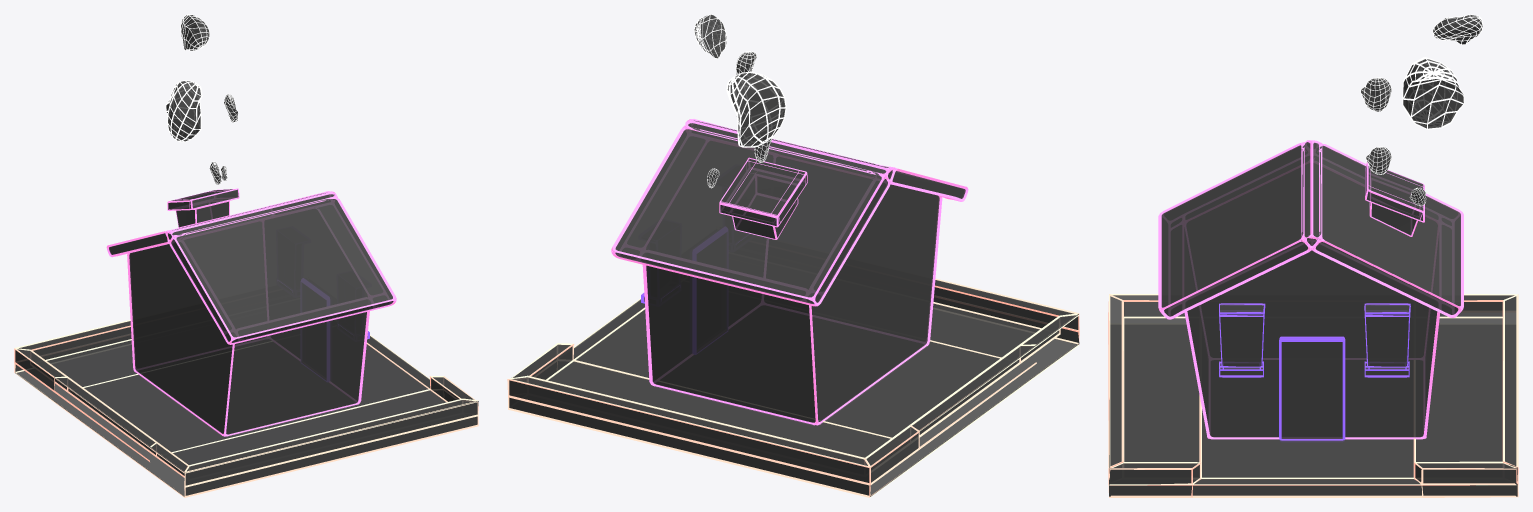
File: portfoliohome.glb
3 renders of one model, left to right at view 1: azimuth 30°, elevation 25°; view 2: azimuth 150°, elevation 25°; view 3: azimuth 270°, elevation 25°, orthographic. The views are drawn at different scales.
Parts seen in each view (by area): view 1: House, Floor, Big Cloud, Chimney, CloudH.001; view 2: House, Floor, Chimney, Big Cloud, CloudH.001; view 3: House, Floor, Door, WindowL, Big Cloud, Chimney, CloudH.001, CloudH, CloudL.
Part boxes in pixels (left/top/right/bottom): House: left=106, top=191, right=396, bottom=436; Floor: left=14, top=319, right=478, bottom=497; Big Cloud: left=165, top=80, right=202, bottom=142; Chimney: left=167, top=188, right=239, bottom=227; CloudH.001: left=180, top=14, right=209, bottom=51; House: left=611, top=119, right=968, bottom=425; Floor: left=507, top=278, right=1079, bottom=497; Chimney: left=719, top=157, right=807, bottom=239; Big Cloud: left=726, top=71, right=786, bottom=147; CloudH.001: left=693, top=14, right=726, bottom=58; House: left=1158, top=140, right=1463, bottom=439; Floor: left=1108, top=294, right=1518, bottom=497; Door: left=1279, top=336, right=1345, bottom=440; WindowL: left=1219, top=303, right=1410, bottom=377; Big Cloud: left=1402, top=57, right=1464, bottom=129; Chimney: left=1365, top=162, right=1424, bottom=236; CloudH.001: left=1432, top=14, right=1483, bottom=44; CloudH: left=1360, top=77, right=1391, bottom=111; CloudL: left=1366, top=146, right=1391, bottom=174.
Bounding box in the file's own units: 7.14 × 7.75 × 7.14.
